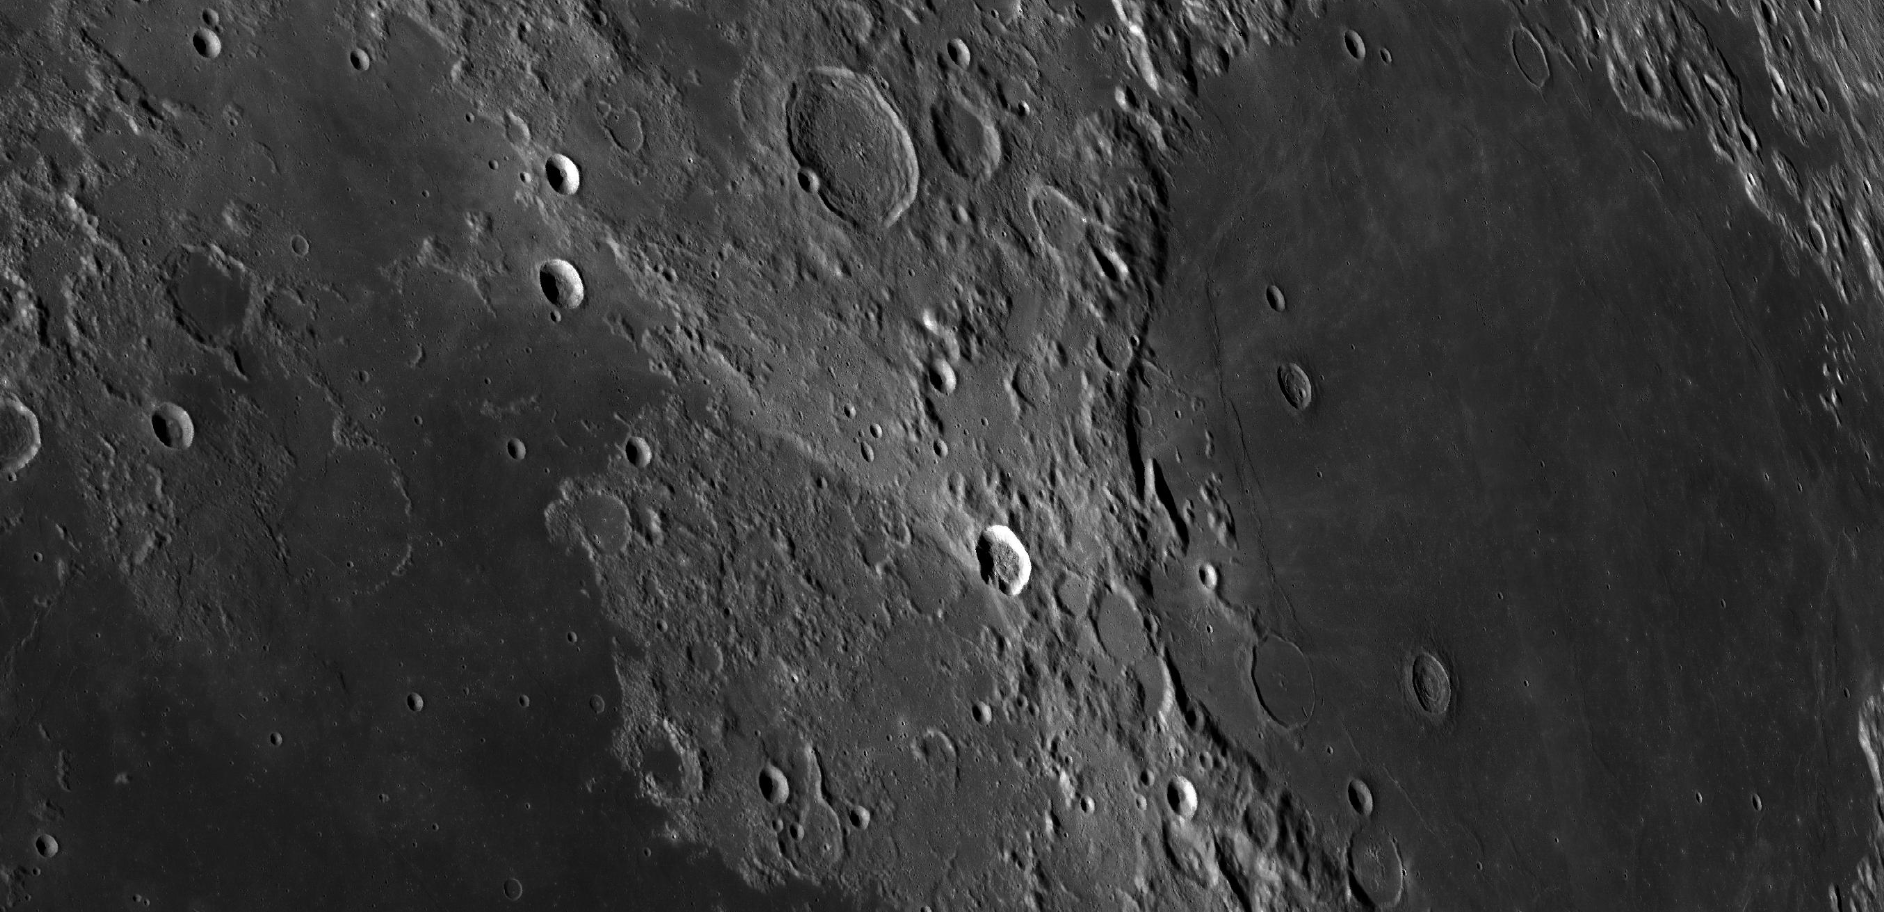crater: (248, 448, 469, 634), (768, 55, 929, 266), (1232, 625, 1342, 751), (1719, 733, 1814, 870), (360, 672, 479, 777), (924, 81, 1009, 199), (151, 23, 267, 111), (1328, 815, 1426, 912), (129, 377, 213, 489), (1399, 639, 1486, 739), (555, 485, 640, 588), (514, 250, 608, 329), (536, 136, 613, 222), (1498, 17, 1568, 109), (464, 848, 572, 906), (1260, 348, 1336, 425), (1325, 10, 1379, 102), (275, 210, 347, 276), (738, 751, 803, 824), (1250, 270, 1317, 332)
